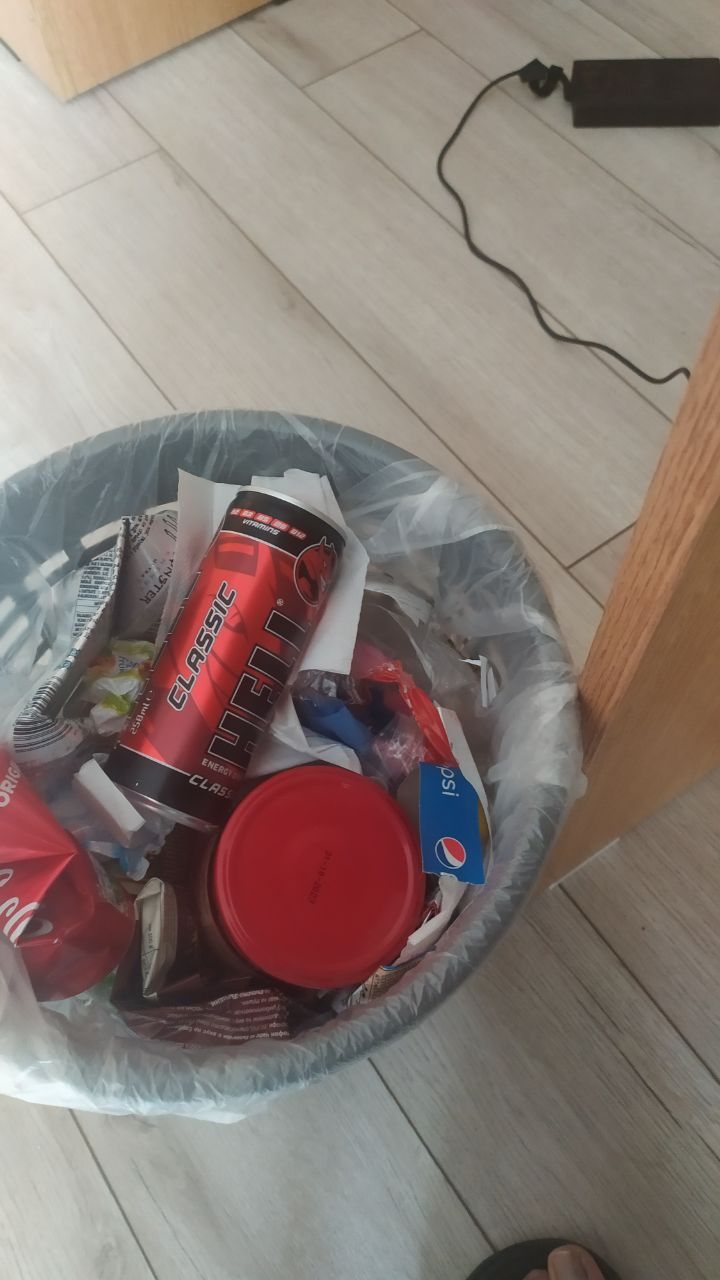Can: (117, 484, 340, 827), (11, 517, 172, 772)
